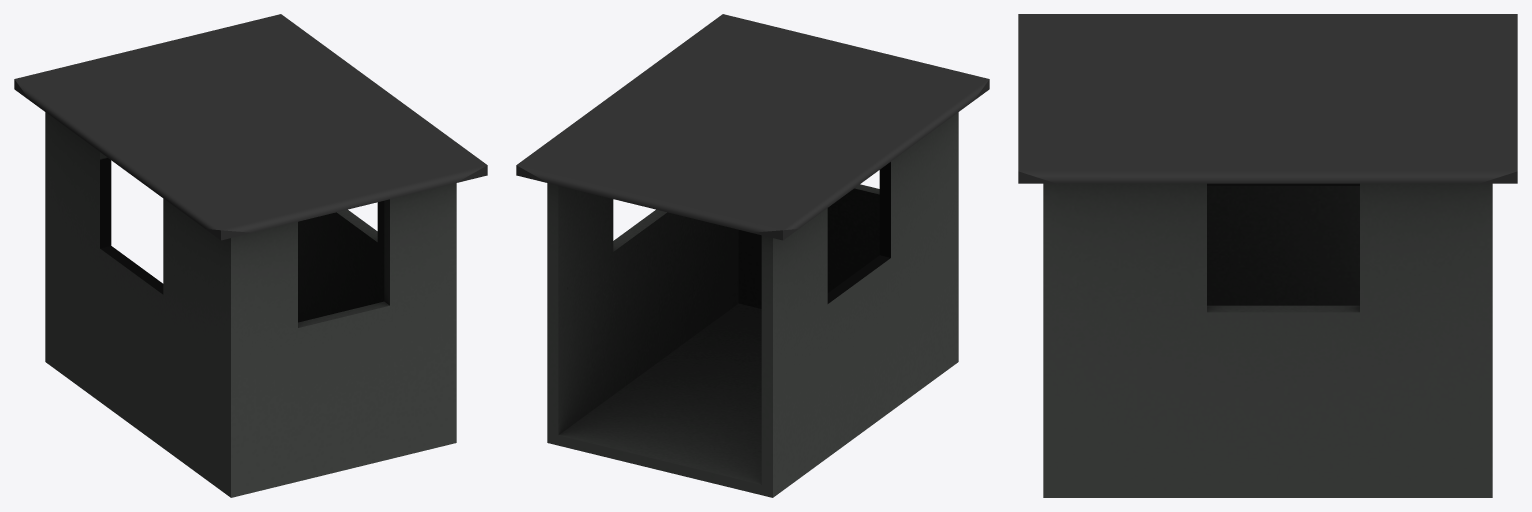
The model's file is Guard_Shack.fbx.
3 renders of one model, left to right at view 1: azimuth 30°, elevation 25°; view 2: azimuth 150°, elevation 25°; view 3: azimuth 270°, elevation 25°, orthographic. The views are drawn at different scales.
Parts seen in each view (by area): view 1: Guard_Shack; view 2: Guard_Shack; view 3: Guard_Shack.
Boxes of the visible parts, box(x1,y1,x2,y2) form: Guard_Shack: box(14, 14, 487, 497); Guard_Shack: box(516, 14, 989, 497); Guard_Shack: box(1018, 14, 1517, 497).
Size of the model in its own units: 8.34 by 8.38 by 11.19.
